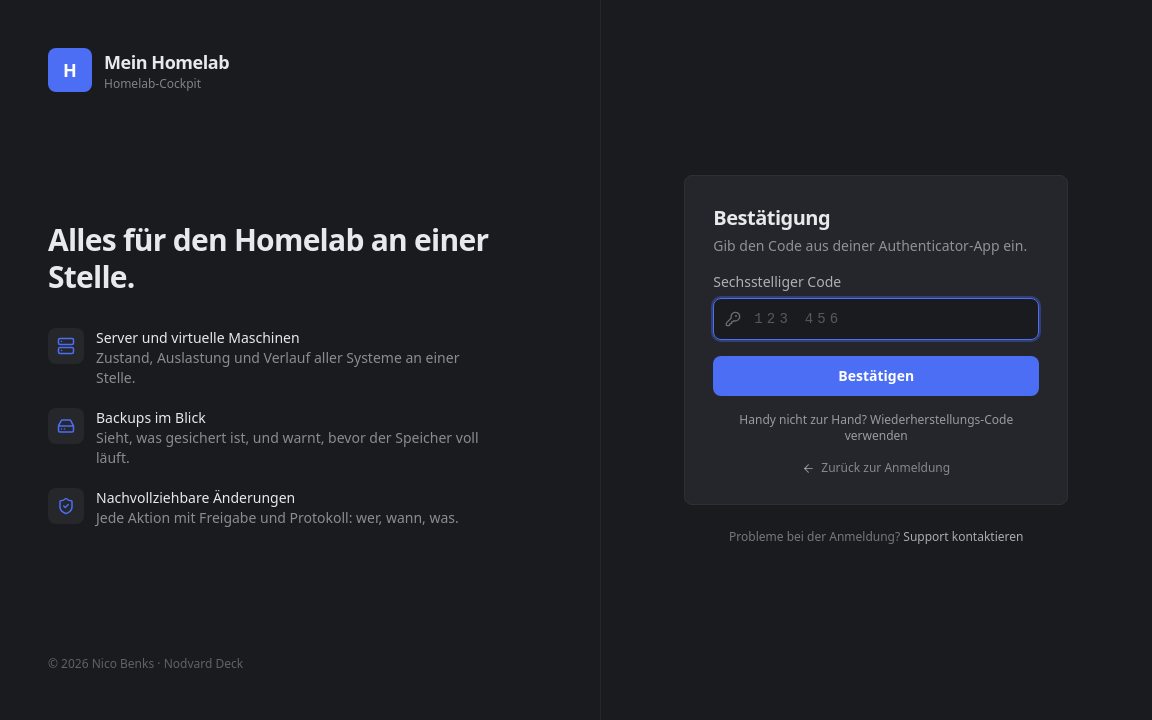
Test: LoginPage › zweiter Faktor bei nicht erreichbarem Server: Hinweis, Knopf wieder frei
The image size is (1152, 720).
Type "123456" into the field labelled "Sechsstelliger Code" at coordinates (876, 319), box left=713, top=298, right=1039, bottom=340
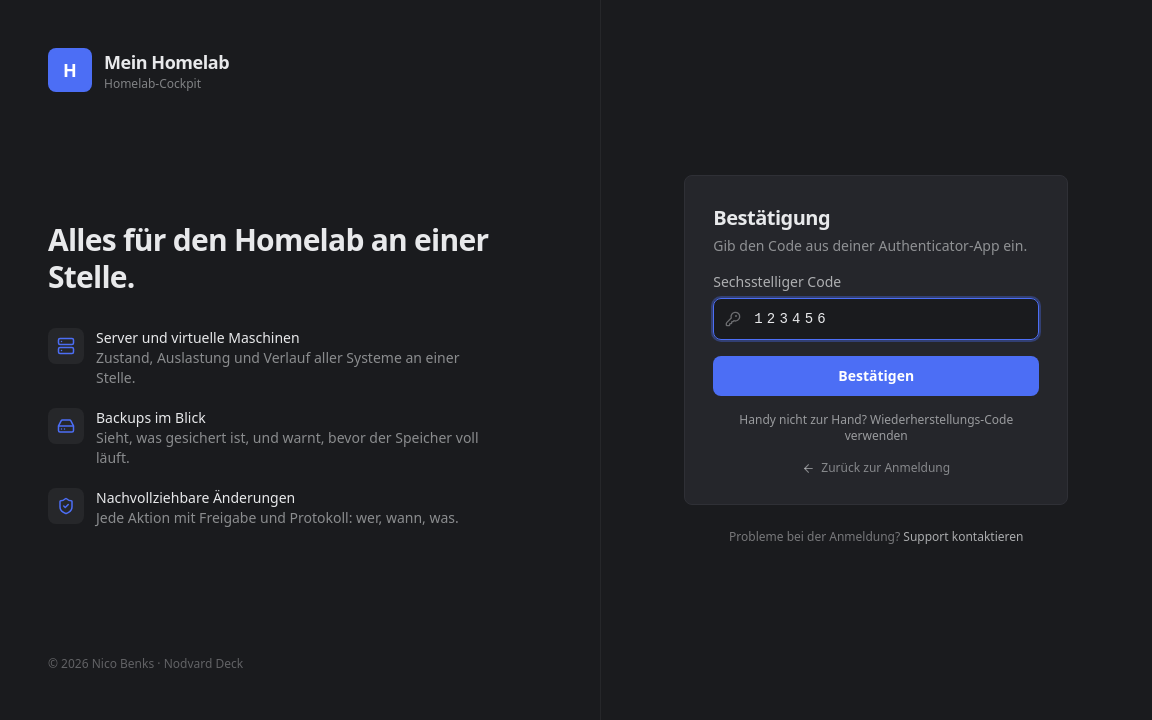
Click the button "Bestätigen" at coordinates (876, 376), box left=713, top=356, right=1039, bottom=396
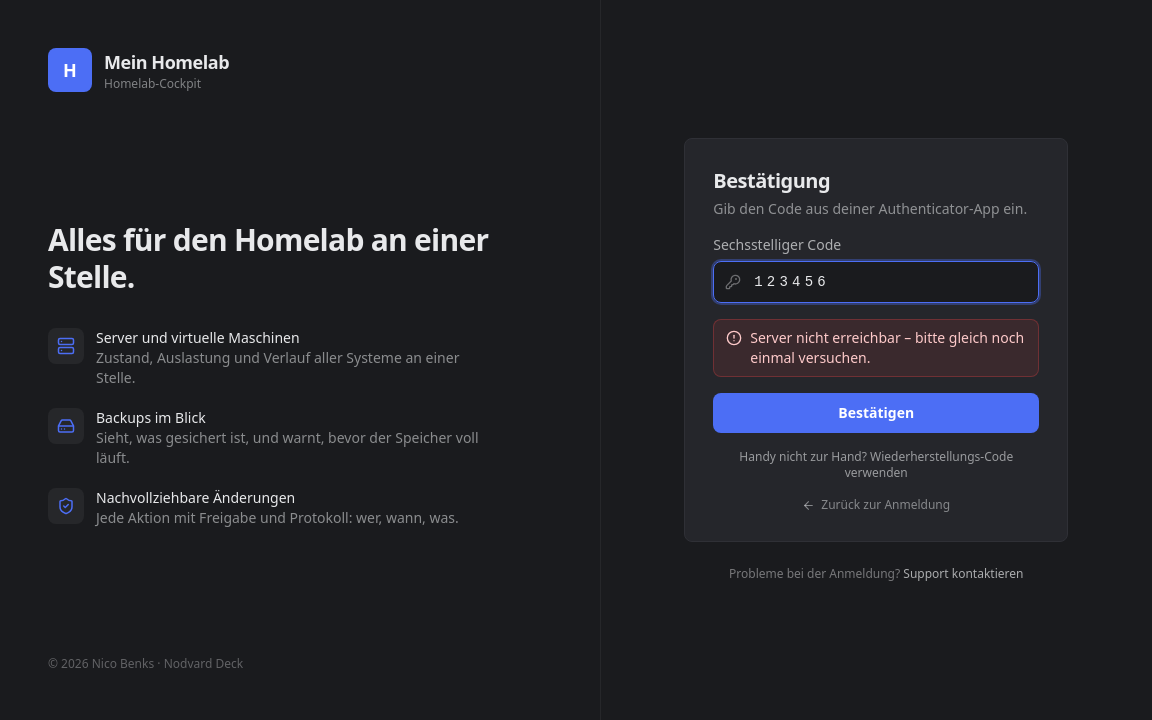
Expected: the button "Bestätigen" is enabled, left=713, top=393, right=1039, bottom=433
Expected: the message reads "Server nicht erreichbar – bitte gleich noch einmal versuchen.", left=750, top=328, right=1024, bottom=367
